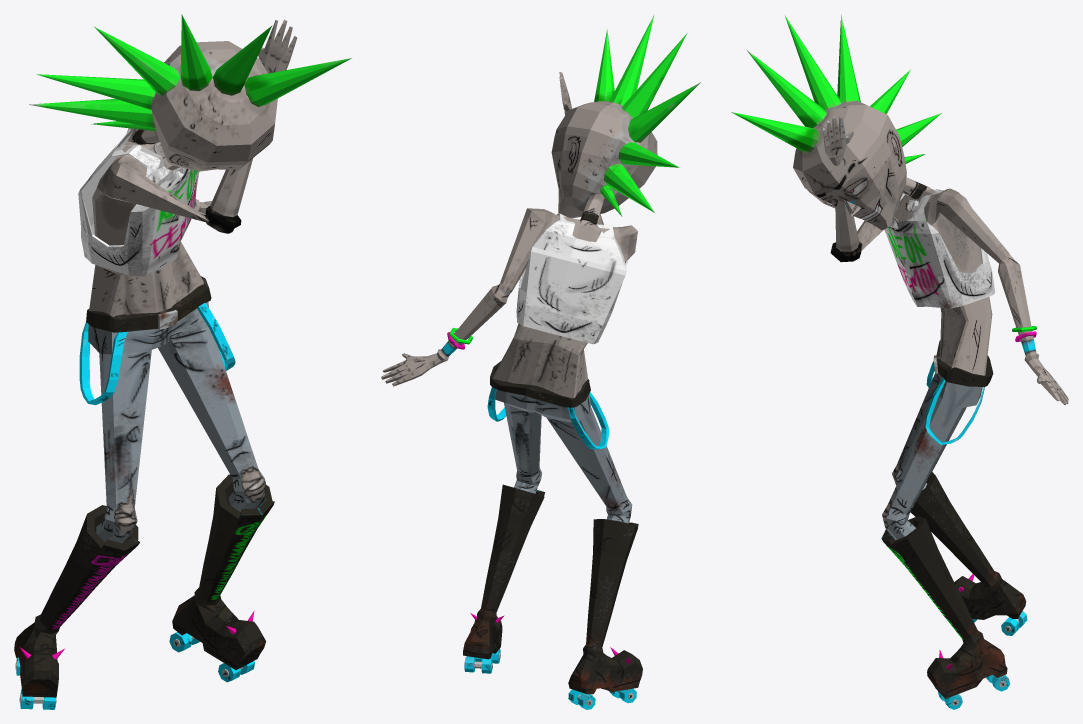
Rendered from punkAnimation_000039.obj.
3 renders of one model, left to right at view 1: azimuth 30°, elevation 25°; view 2: azimuth 150°, elevation 25°; view 3: azimuth 270°, elevation 25°, orthographic. The views are drawn at different scales.
Visible parts, largest first — view 1: Cube.004_Cube.003; view 2: Cube.004_Cube.003; view 3: Cube.004_Cube.003.
Part boxes in pixels (x1,y1,x2,y2): Cube.004_Cube.003: (14,14,351,709); Cube.004_Cube.003: (381,14,700,709); Cube.004_Cube.003: (731,14,1068,709).
Size of the model in its own units: 2.64 by 6.68 by 3.27.
